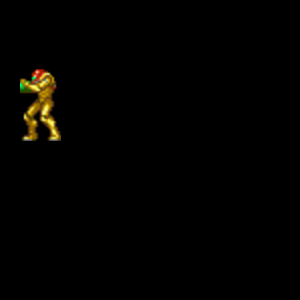Collectible: (20, 69, 61, 141)
